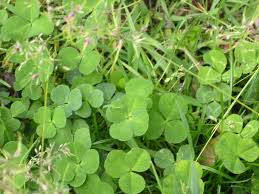4-clover: (105, 93, 153, 142)
